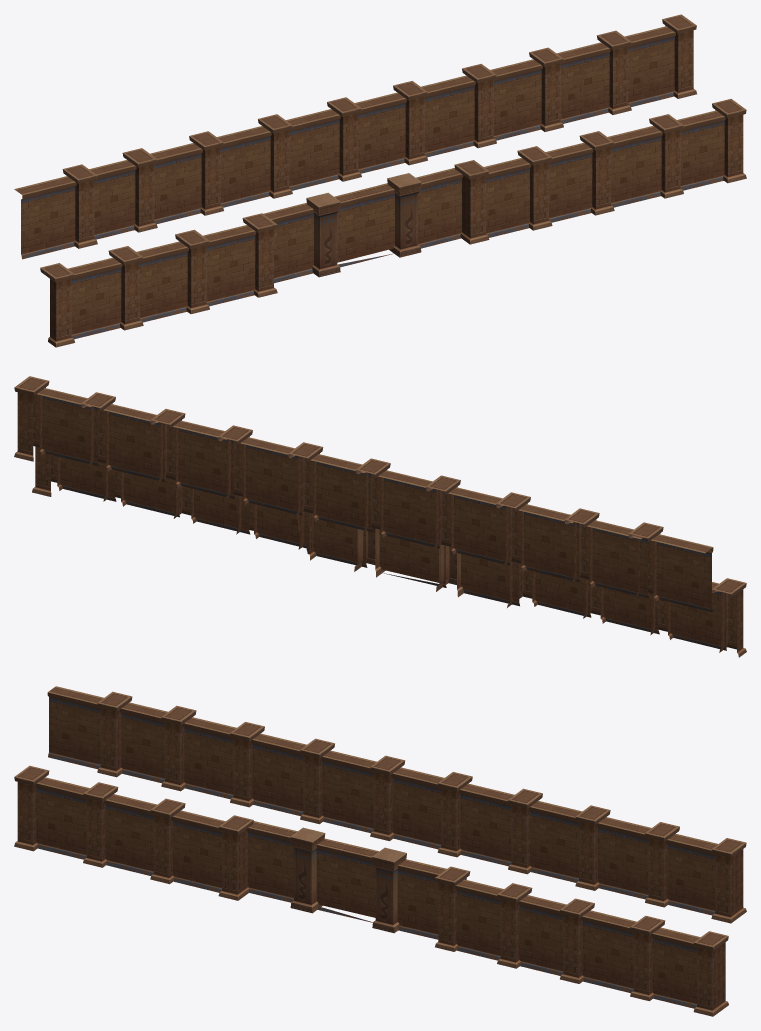
The model's file is Area_12_2.fbx.
3 views of the same model, one above another, from view 1: azimuth 30°, elevation 25°; view 2: azimuth 150°, elevation 25°; view 3: azimuth 330°, elevation 25° (orthographic).
Parts seen in each view (by area): view 1: Area_12_2; view 2: Area_12_2; view 3: Area_12_2.
Boxes of the visible parts, x1,y1,x2,y2 form: Area_12_2: [14, 14, 746, 347]; Area_12_2: [14, 376, 746, 657]; Area_12_2: [14, 686, 746, 1016].
Size of the model in its own units: 8033 by 1472 by 999.
